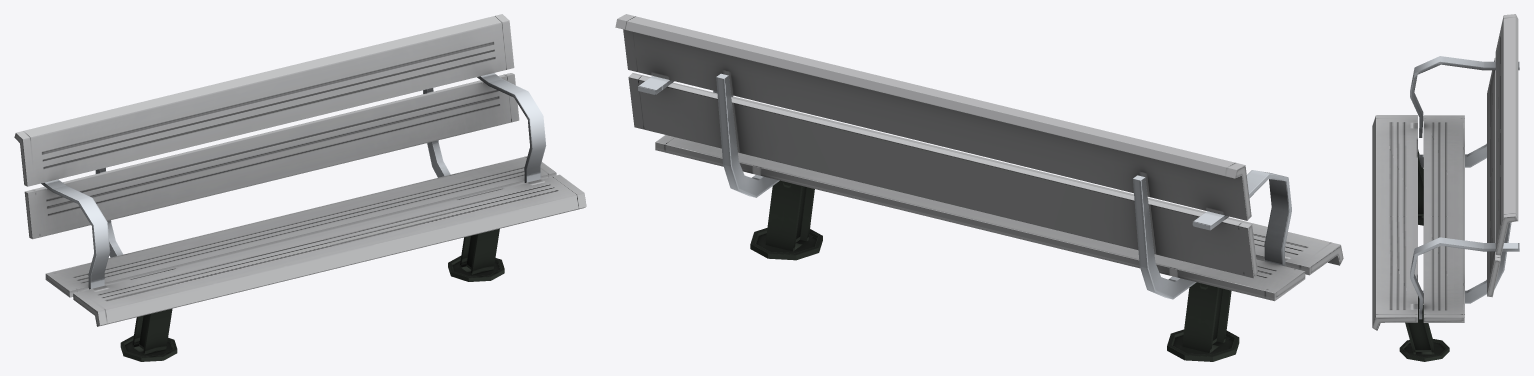
The model's file is seat.fbx.
3 views of the same model, side by side, from view 1: azimuth 30°, elevation 25°; view 2: azimuth 150°, elevation 25°; view 3: azimuth 270°, elevation 25° (orthographic). The views are drawn at different scales.
Visible parts, largest first — view 1: polySurface180; view 2: polySurface180; view 3: polySurface180.
Boxes of the visible parts, <box> form: polySurface180: <box>14,14,586,361</box>; polySurface180: <box>615,14,1343,361</box>; polySurface180: <box>1372,14,1519,361</box>.
Bounding box in the file's own units: 4.68 × 1.82 × 1.44.
